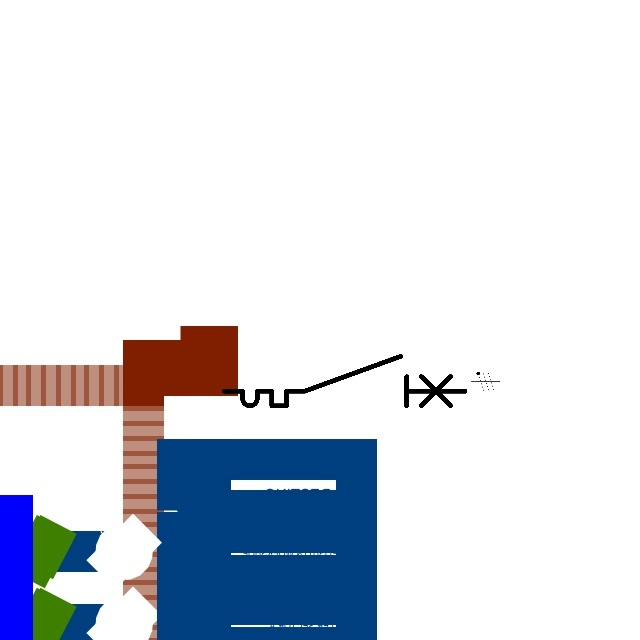interruptor_termomagnetico: (218, 350, 471, 412)
